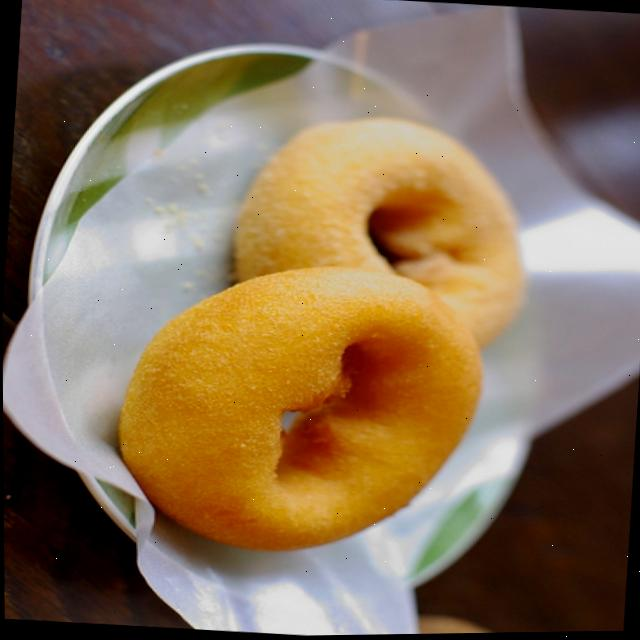炸货点心: (85, 77, 566, 583)
